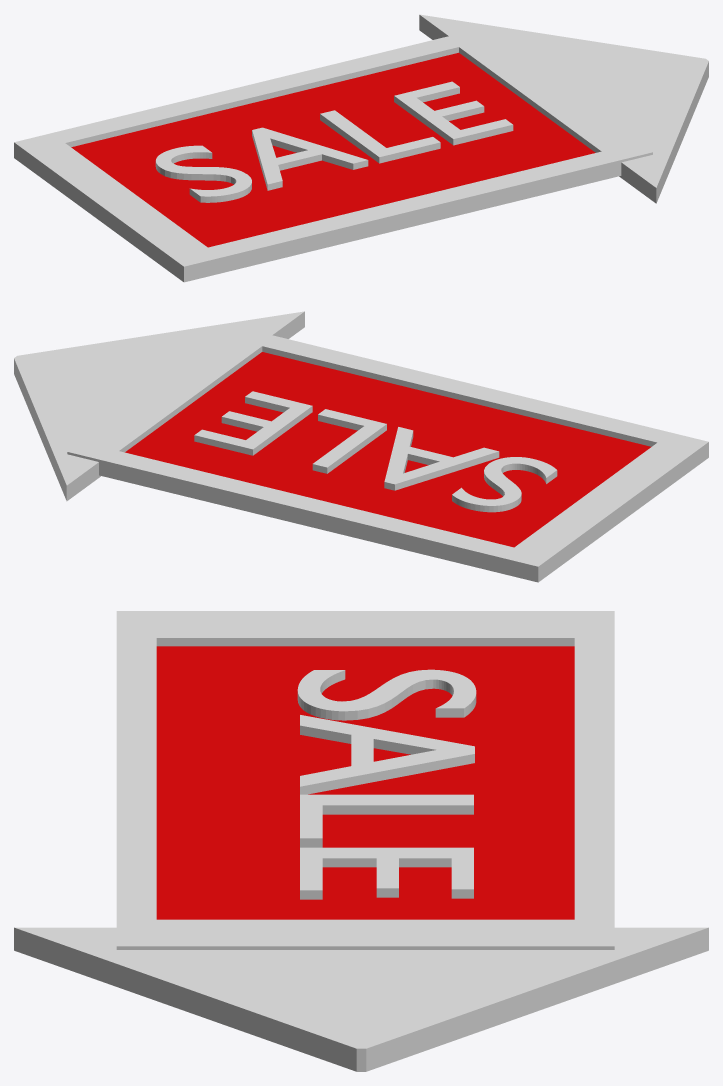
The model's file is SaleSign.fbx.
3 views of the same model, one above another, from view 1: azimuth 30°, elevation 25°; view 2: azimuth 150°, elevation 25°; view 3: azimuth 270°, elevation 25° (orthographic). The views are drawn at different scales.
Parts seen in each view (by area): view 1: Plane, Plane.001, Plane.002, Text; view 2: Plane, Plane.001, Plane.002, Text; view 3: Plane, Plane.001, Plane.002, Text.
Part boxes in pixels (<box>): Plane: <box>71,52,595,247</box>; Plane.001: <box>14,28,652,282</box>; Plane.002: <box>419,14,708,203</box>; Text: <box>155,81,513,202</box>; Plane: <box>125,352,651,547</box>; Plane.001: <box>67,327,708,582</box>; Plane.002: <box>14,311,304,501</box>; Text: <box>194,391,557,512</box>; Plane: <box>156,646,574,919</box>; Plane.001: <box>116,611,614,949</box>; Plane.002: <box>14,927,708,1071</box>; Text: <box>297,669,476,899</box>.
Size of the model in its own units: 402 by 11.97 by 272.
